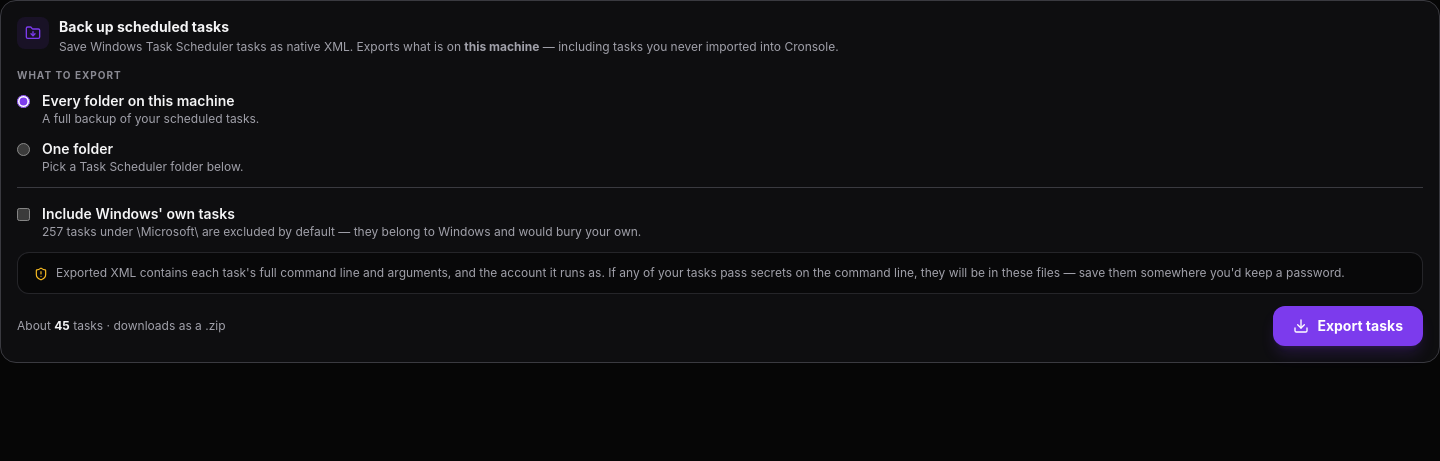
Scenario: BulkExportTool › requires a folder before it will export one
expect the text "45" is shown: met, box [54,318,70,332]
Click the radio button labelled "One folder Pick a Task Scheduler folder below." at (24, 149), box [17,142,30,156]
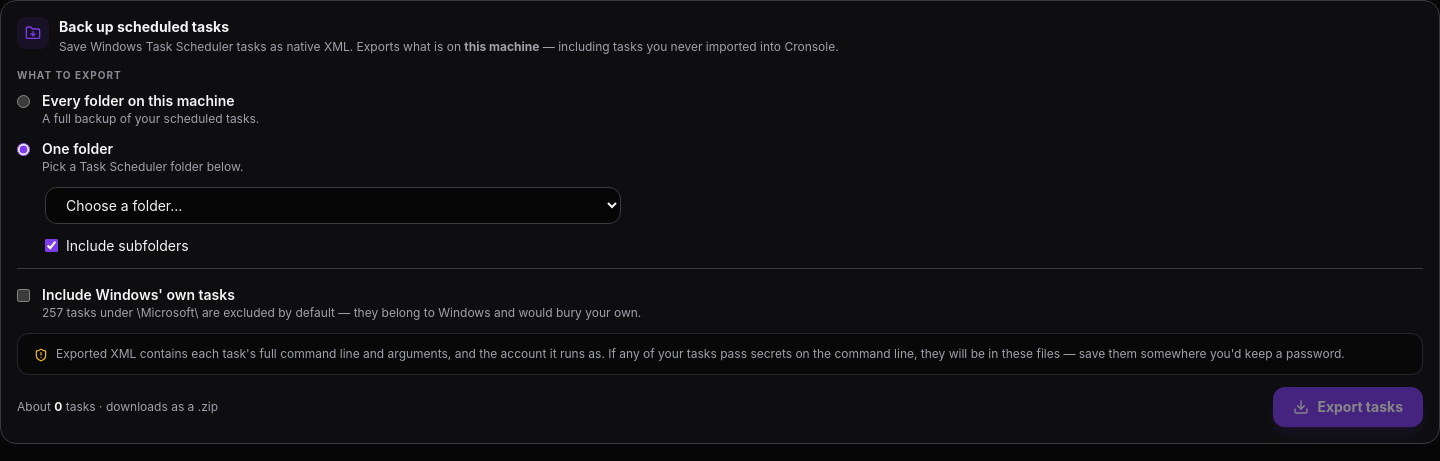
expect the button "Export tasks" is disabled: met, box [1273,386,1423,426]
